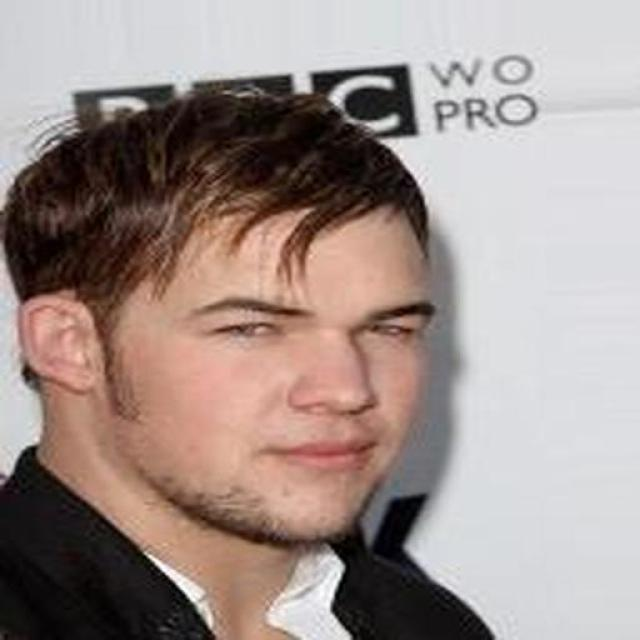bareface: (84, 140, 440, 553)
